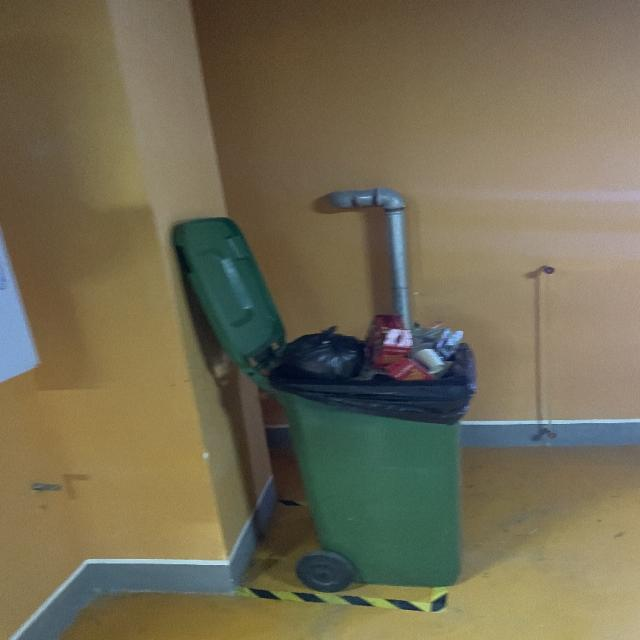overflow: (266, 314, 474, 586)
